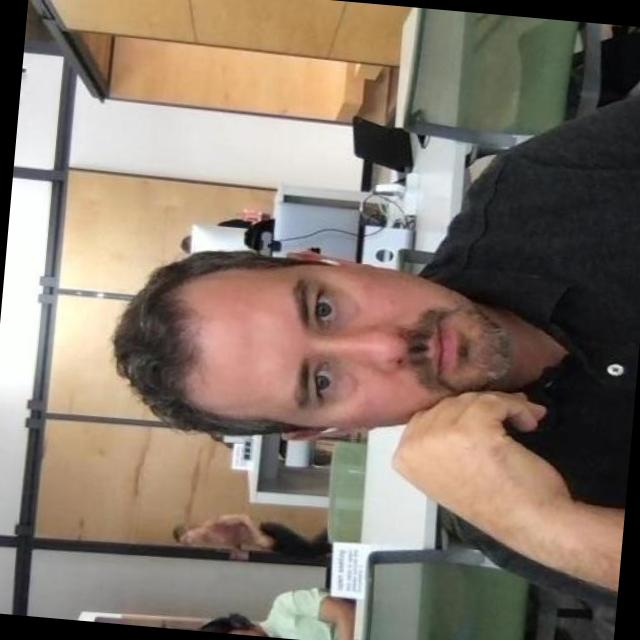bareface: (150, 249, 510, 462)
